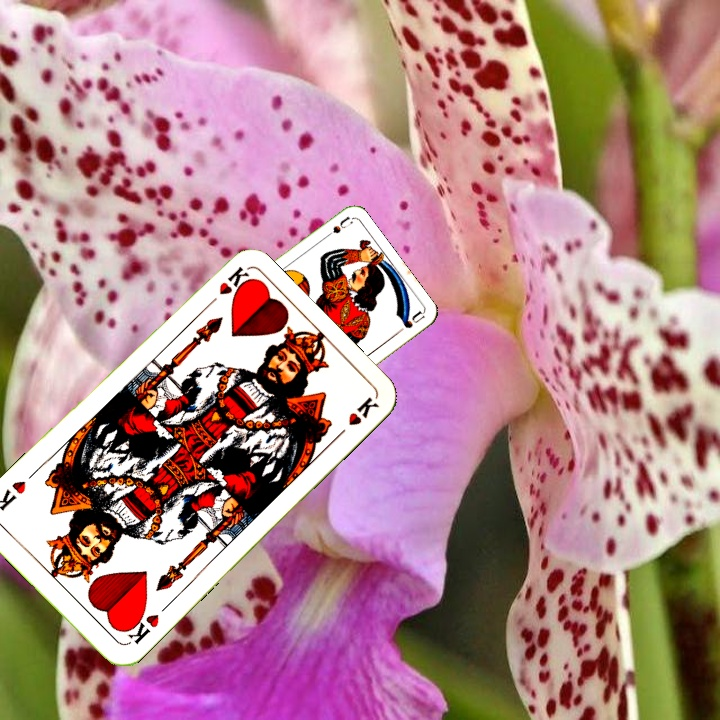HK: (200, 263, 251, 312), (120, 607, 162, 647)
SU: (317, 213, 354, 244)
